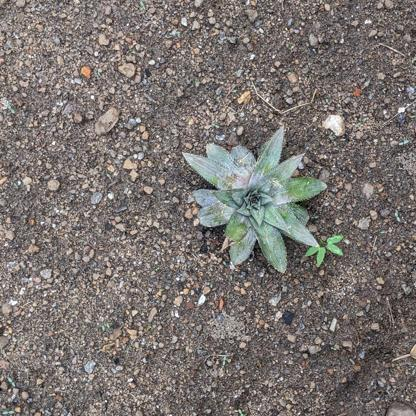pineapple: (181, 124, 328, 274)
